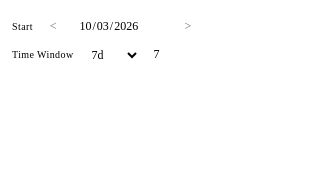
Scenario: DayRangeSelect — the custom input › leaves a cleared field cleared while editing, and blur puts the value back
The image size is (332, 172).
Clear the number field with test id "day-range-custom" at (178, 55), box [146,41,210,69]
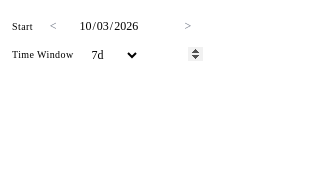
Press Tab
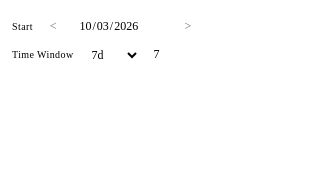
Check: the number field with test id "day-range-custom" holds "7", box [146,41,210,69]
